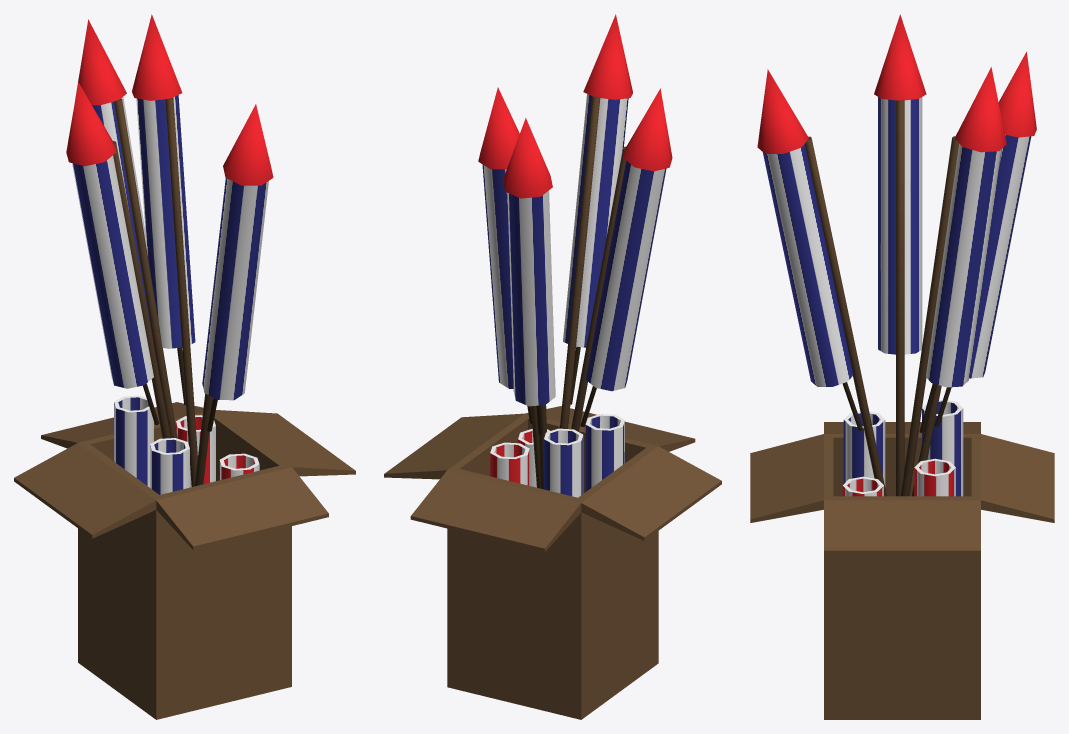
The model's file is MM_BundleOfFireWorks.fbx.
3 renders of one model, left to right at view 1: azimuth 30°, elevation 25°; view 2: azimuth 150°, elevation 25°; view 3: azimuth 270°, elevation 25°, orthographic.
Parts seen in each view (by area): view 1: MM_BundleOfFireWorks; view 2: MM_BundleOfFireWorks; view 3: MM_BundleOfFireWorks.
Part boxes in pixels (x1,y1,x2,y2): MM_BundleOfFireWorks: [14, 14, 355, 719]; MM_BundleOfFireWorks: [384, 14, 721, 719]; MM_BundleOfFireWorks: [750, 14, 1054, 719].
Bounding box in the file's own units: 72.31 × 164 × 72.31.
